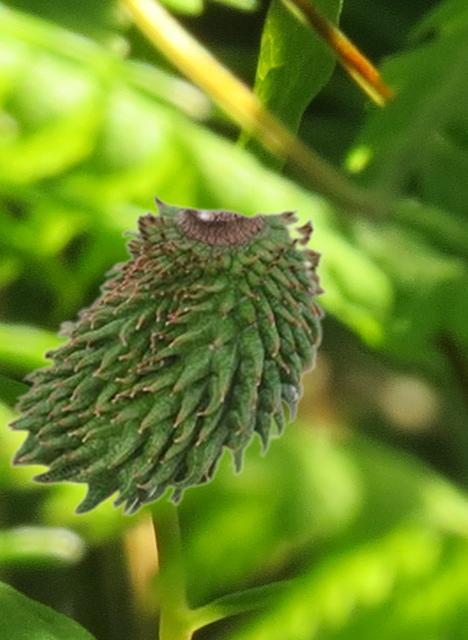guyabano: (3, 191, 328, 516)
